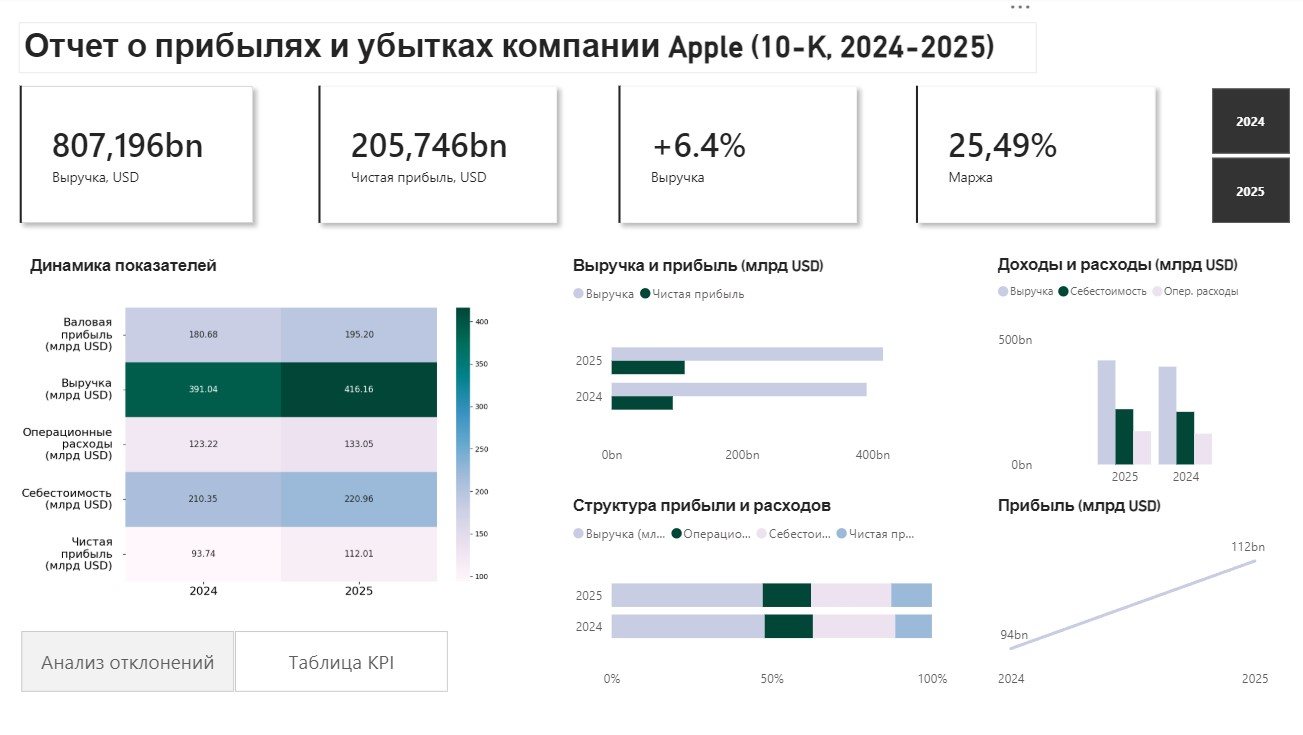

Layout of this report page (visuals, bound fields, positions):
{"tool":"powerbi","page":{"name":"Page 1","canvas":[1280,720],"ordinal":0},"visuals":[{"type":"cardVisual","fields":{"Data":["Лист1.Выручка Fixed"]},"box":[0,57.9,290.9,191.9],"z":0},{"type":"cardVisual","fields":{"Data":["Лист1.Чистая прибыль Fixed"]},"box":[289.4,57.9,289.4,191.9],"z":1000},{"type":"cardVisual","fields":{"Data":["Лист1.Выручка YoY %"]},"box":[580.3,57.9,289.4,191.9],"z":2000},{"type":"clusteredBarChart","title":"Выручка и прибыль (млрд USD)","fields":{"Category":["Лист1.Год"],"Y":["Лист1.Выручка Fixed","Лист1.Чистая прибыль Fixed"]},"box":[560.2,251.8,376.2,205.6],"z":3000},{"type":"hundredPercentStackedBarChart","title":"Структура прибыли и расходов","fields":{"Category":["Лист1.Год"],"Y":["Лист1.Итого (млрд)"],"Series":["Лист1.Показатель (млрд)"]},"box":[560.2,484.8,368.6,190.4],"z":4000},{"type":"slicer","fields":{"Values":["Лист1.Год"]},"box":[1159.1,82.2,120.3,144.7],"z":6000},{"type":"cardVisual","fields":{"Data":["Лист1.Маржа %"]},"box":[869.7,57.9,290.9,191.9],"z":7000},{"type":"textbox","box":[0,161.8,290,36.3],"z":8000},{"type":"textbox","box":[290.2,161.8,290.2,36.3],"z":9000},{"type":"textbox","box":[580.5,161.8,290.2,36.3],"z":10000},{"type":"textbox","box":[869.4,161.8,290.2,36.3],"z":11000},{"type":"clusteredColumnChart","title":"Доходы и расходы (млрд USD)","fields":{"Category":["Лист1.Год"],"Y":["Лист1.Выручка Fixed","Лист1.Себестоимость","Лист1.Операционные расходы"]},"box":[971.7,251.3,272.6,233],"z":12000},{"type":"pythonVisual","fields":{"Values":["Лист1.Год","Sum(Лист1.Значение)","Лист1.Показатель"]},"box":[0,289.7,539.4,305.5],"z":13000},{"type":"actionButton","box":[30.8,615.8,206.5,59],"z":16000},{"type":"actionButton","box":[237.8,615.8,206.5,59],"z":17000},{"type":"textbox","box":[33.7,247.9,223.2,33.7],"z":18000},{"type":"textbox","box":[27.4,25.9,987,48.7],"z":19000},{"type":"lineChart","title":"Прибыль (млрд USD)","fields":{"Category":["Лист1.Год"],"Y":["Лист1.Чистая прибыль"]},"box":[971.7,484.3,272.6,190.4],"z":20000}]}

Visuals, with their boxes in screenshot pixels (x1, y1, x2, y2), scaled from the page's 1280x720 canvas onto the 1303x735 screenshot:
cardVisual - Лист1.Выручка Fixed: 0/59/296/255
cardVisual - Лист1.Чистая прибыль Fixed: 295/59/589/255
cardVisual - Лист1.Выручка YoY %: 591/59/885/255
"Выручка и прибыль (млрд USD)" clusteredBarChart: 570/257/953/467
"Структура прибыли и расходов" hundredPercentStackedBarChart: 570/495/945/689
slicer - Лист1.Год: 1180/84/1302/232
cardVisual - Лист1.Маржа %: 885/59/1181/255
textbox: 0/165/295/202
textbox: 295/165/591/202
textbox: 591/165/886/202
textbox: 885/165/1180/202
"Доходы и расходы (млрд USD)" clusteredColumnChart: 989/257/1267/494
pythonVisual - Лист1.Год x Sum(Лист1.Значение): 0/296/549/608
actionButton: 31/629/242/689
actionButton: 242/629/452/689
textbox: 34/253/262/287
textbox: 28/26/1033/76
"Прибыль (млрд USD)" lineChart: 989/494/1267/689
